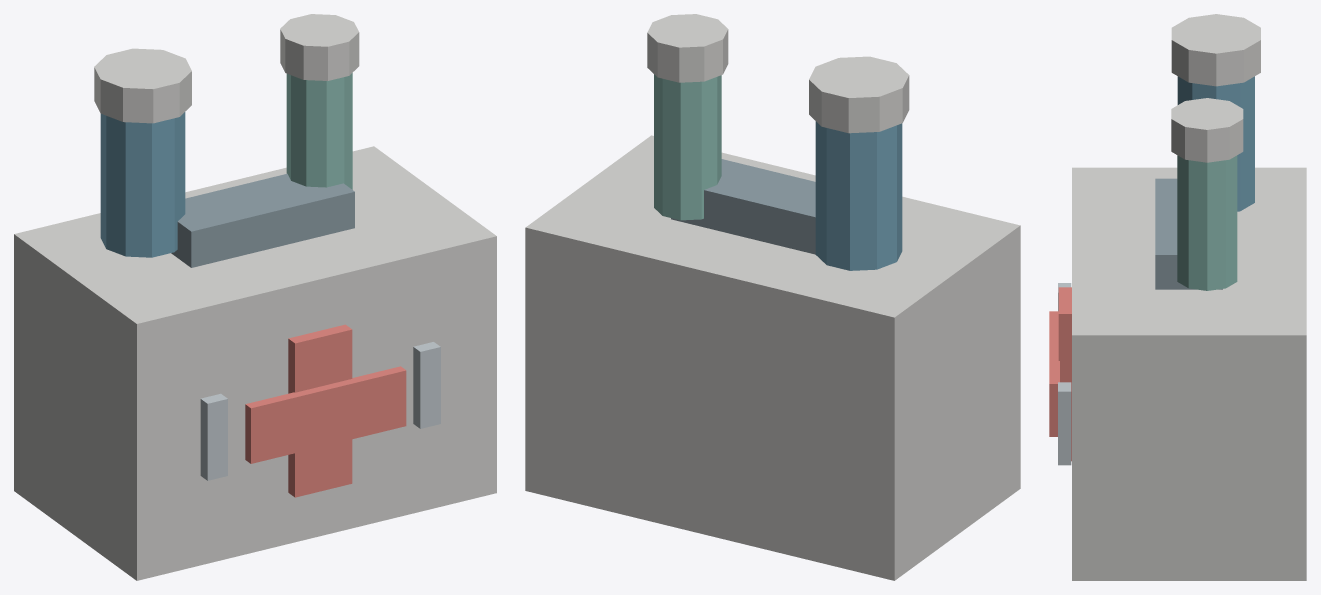
File: medical-first-aid-kit.glb
3 views of the same model, side by side, from view 1: azimuth 30°, elevation 25°; view 2: azimuth 150°, elevation 25°; view 3: azimuth 270°, elevation 25° (orthographic). The views are drawn at different scales.
Visible parts, largest first — view 1: Infirmary first aid kit; view 2: Infirmary first aid kit; view 3: Infirmary first aid kit.
Part boxes in pixels (box(x1,y1,x2,y2)): Infirmary first aid kit: box(14, 14, 496, 580); Infirmary first aid kit: box(525, 14, 1020, 580); Infirmary first aid kit: box(1049, 14, 1306, 580).
Bounding box in the file's own units: 0.44 × 0.51 × 0.285.
